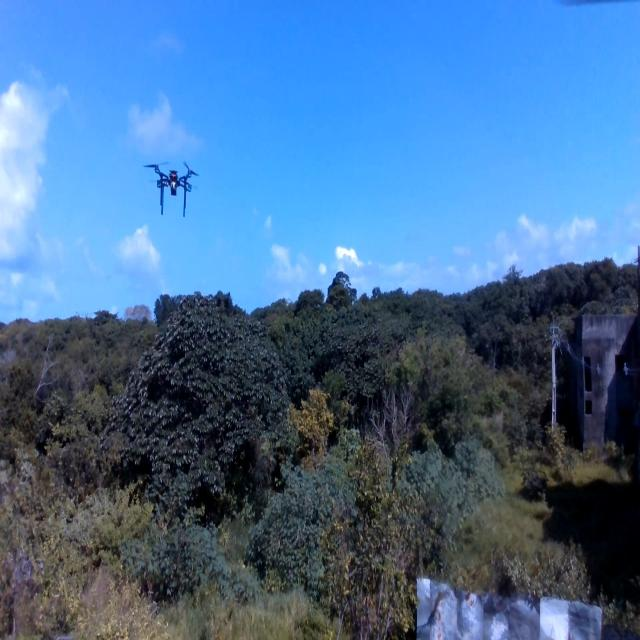-uav-: (140, 148, 205, 229)
